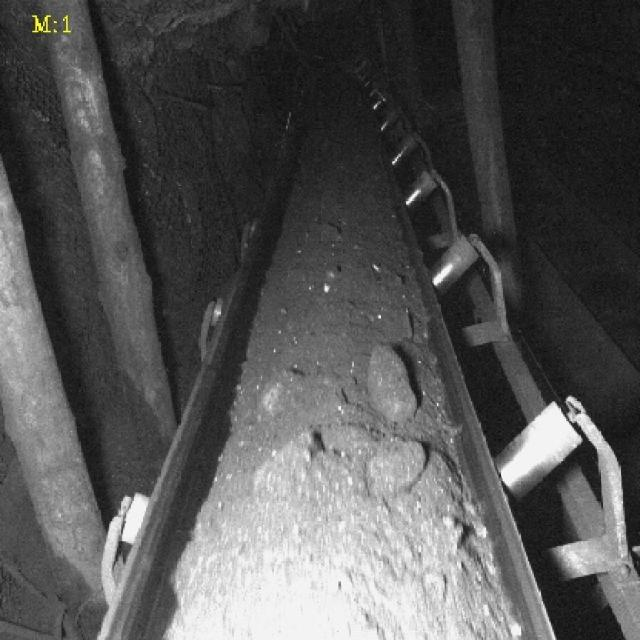large_sized_coal: (250, 426, 358, 506), (366, 438, 451, 508), (366, 343, 420, 422), (262, 371, 310, 418)
